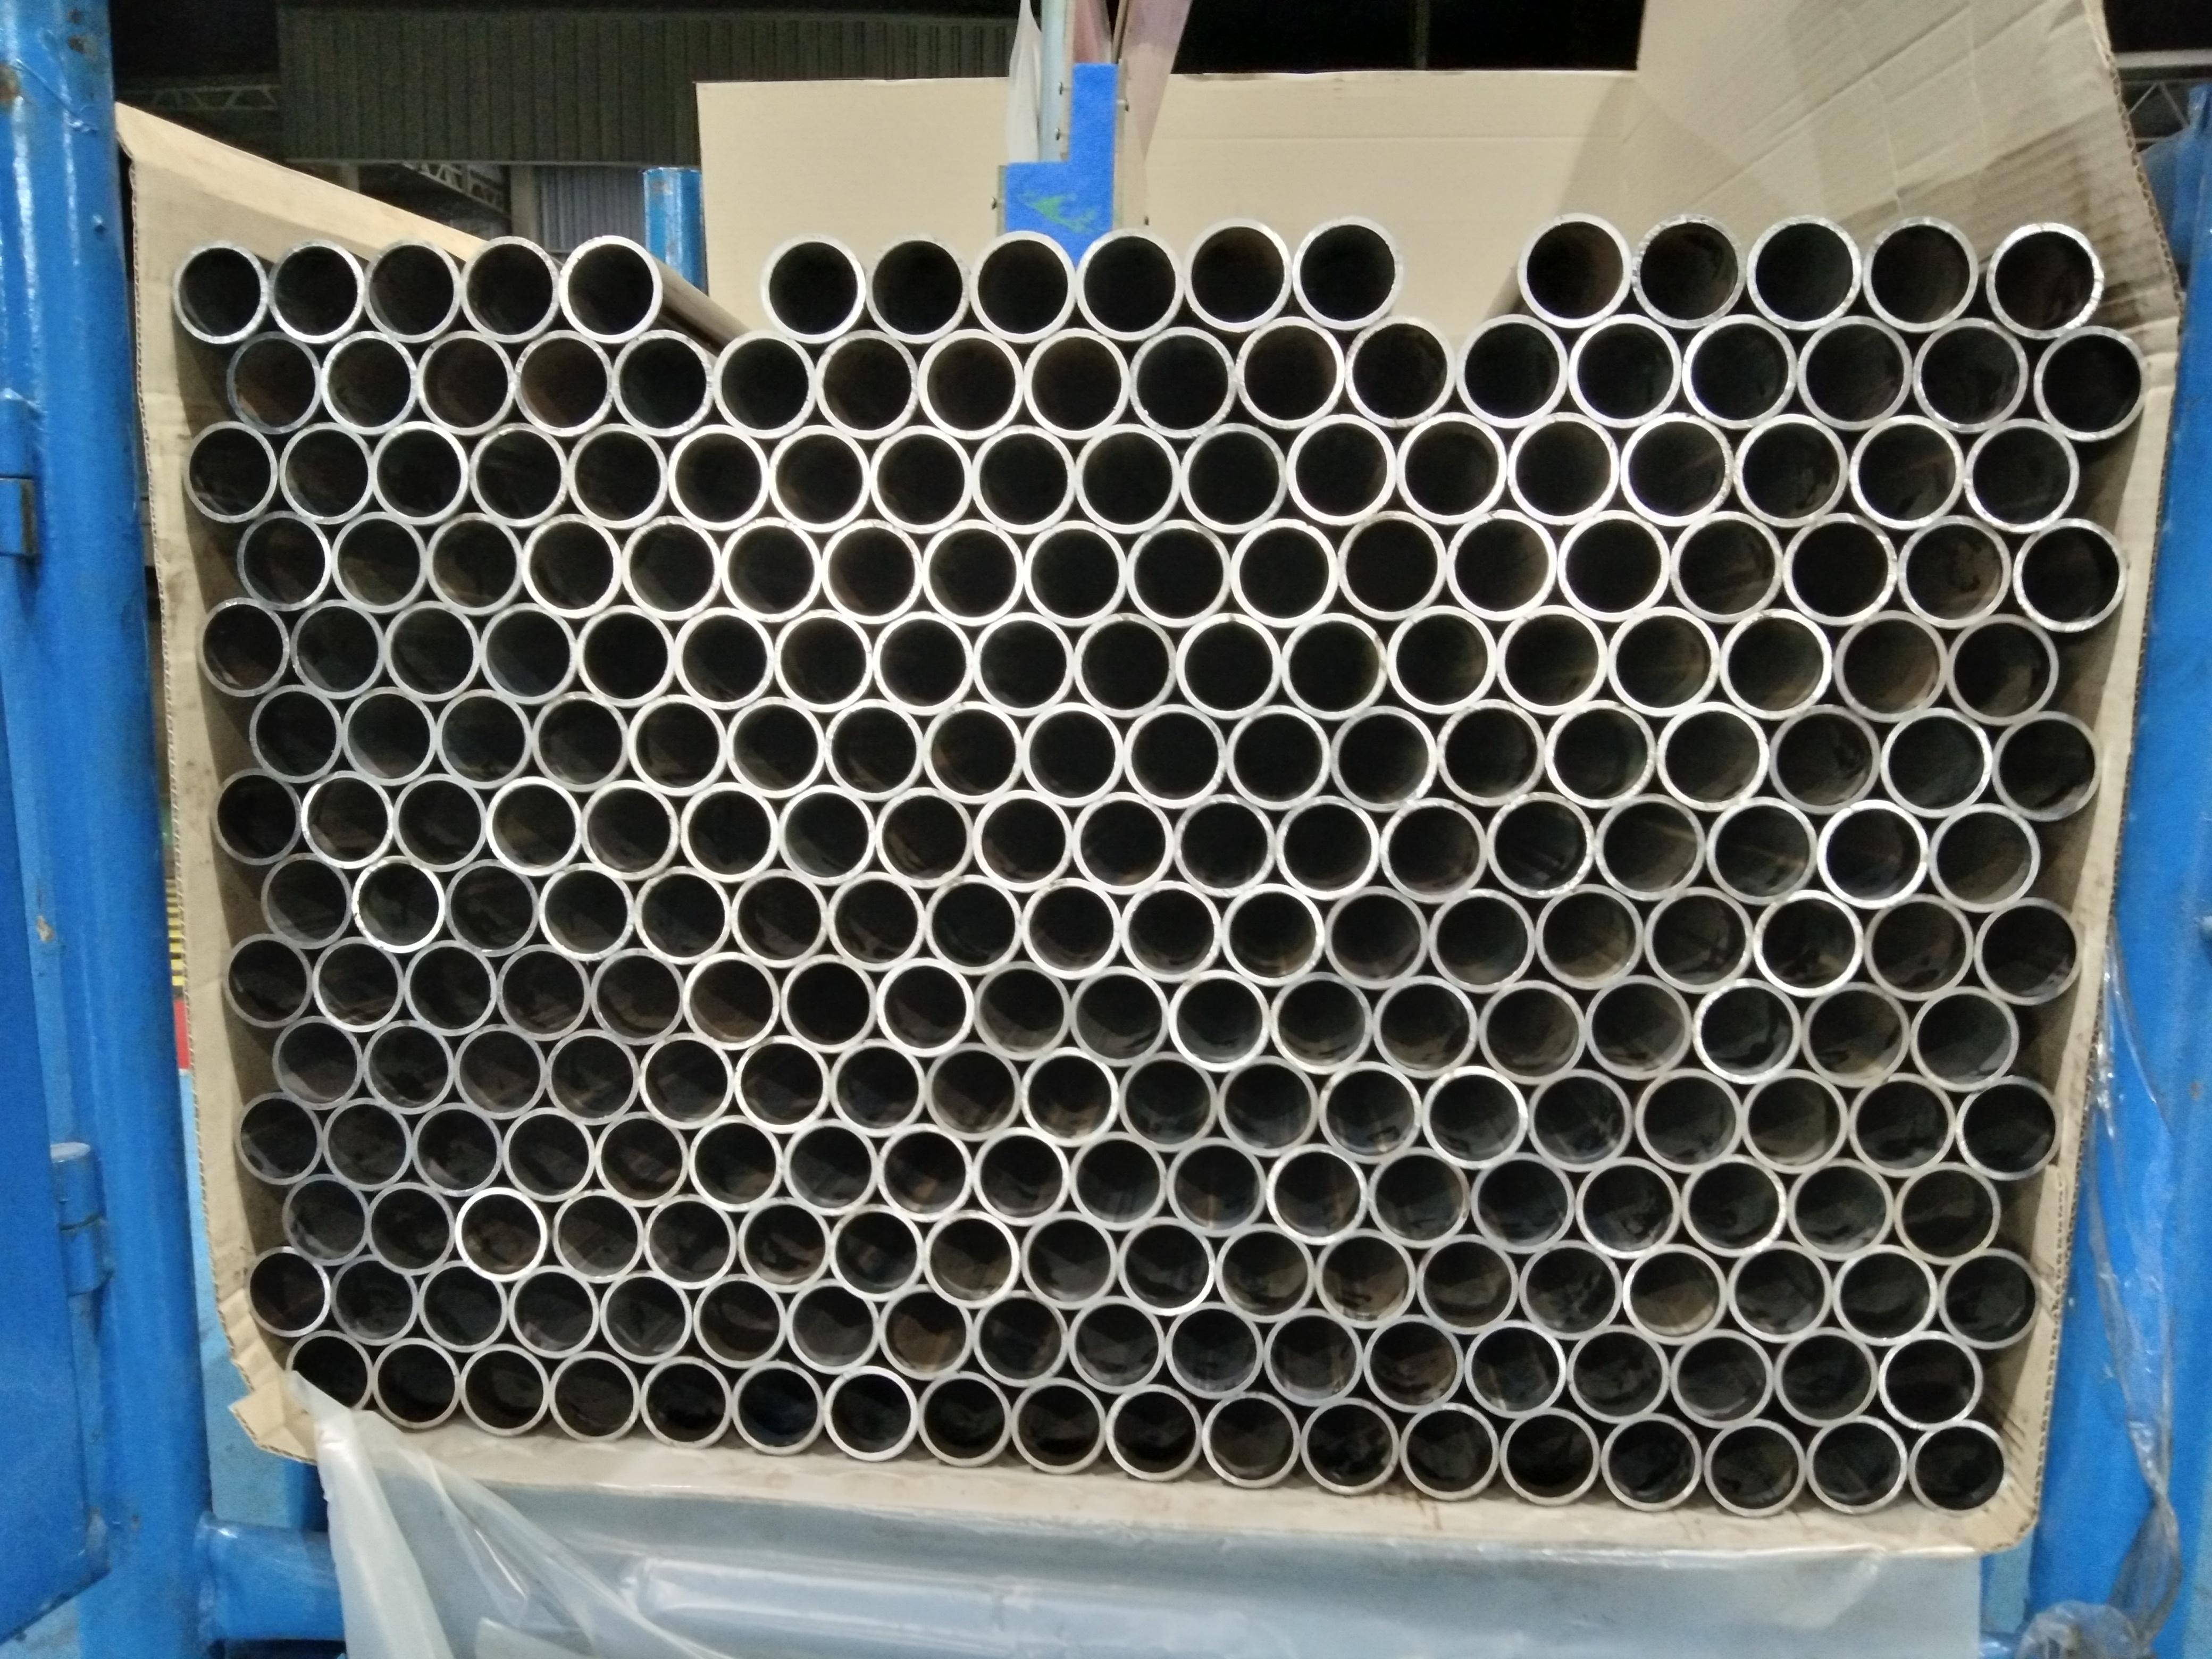pipe: (1911, 315, 2031, 432), (1716, 606, 1834, 721), (1517, 211, 1632, 329), (1984, 221, 2102, 336), (1897, 512, 2012, 629), (1630, 213, 1747, 328), (1796, 314, 1911, 430), (1733, 411, 1848, 528), (1848, 413, 1963, 530), (1862, 216, 1980, 329), (1669, 509, 1784, 624), (1832, 608, 1947, 723), (1568, 312, 1683, 427), (1683, 314, 1797, 429), (1618, 411, 1733, 526), (1963, 416, 2078, 532), (1944, 610, 2057, 727), (1745, 214, 1862, 328), (2031, 324, 2148, 437), (1557, 509, 1672, 622), (1784, 511, 1897, 626), (2012, 516, 2125, 631), (1766, 702, 1881, 816), (1507, 410, 1620, 525), (1235, 314, 1346, 430), (1395, 411, 1508, 525), (1336, 507, 1447, 622), (1456, 312, 1568, 427), (1287, 411, 1397, 528), (1446, 507, 1557, 620), (1386, 603, 1498, 716), (1606, 605, 1719, 716), (1879, 706, 1991, 819), (1703, 795, 1817, 906), (1292, 214, 1404, 328), (1345, 314, 1456, 427), (1987, 709, 2102, 819), (1496, 603, 1608, 714), (1656, 701, 1768, 812), (1926, 802, 2038, 913), (1533, 882, 1644, 993), (1583, 972, 1695, 1084), (1184, 218, 1294, 331), (1231, 514, 1339, 629), (1129, 322, 1237, 437), (1022, 324, 1130, 439), (1181, 418, 1287, 535), (1545, 699, 1656, 809), (1486, 789, 1595, 901), (1594, 791, 1705, 901), (1075, 420, 1183, 533), (1329, 702, 1439, 812), (1973, 896, 2083, 1006), (1909, 983, 2019, 1093), (1437, 697, 1545, 809), (1752, 889, 1864, 997), (1862, 892, 1973, 1000), (1076, 227, 1184, 338), (864, 230, 972, 342), (970, 228, 1076, 342), (918, 326, 1024, 439), (1125, 518, 1233, 627), (1280, 610, 1388, 720), (1817, 798, 1925, 908), (1642, 885, 1752, 993), (1426, 885, 1536, 993), (1799, 979, 1909, 1087), (1524, 1065, 1634, 1173), (1632, 1065, 1742, 1173), (970, 422, 1076, 533), (815, 326, 920, 439), (1273, 793, 1381, 901), (1379, 795, 1487, 903), (1475, 978, 1585, 1084), (1022, 518, 1127, 629), (1176, 612, 1282, 720), (1693, 976, 1799, 1084), (1738, 1066, 1846, 1173), (1846, 1072, 1956, 1176), (761, 232, 866, 342), (869, 423, 974, 533), (768, 422, 871, 533), (1322, 884, 1428, 990), (1726, 1239, 1832, 1345), (920, 518, 1024, 626), (1226, 702, 1331, 810), (1785, 1155, 1893, 1260), (611, 328, 716, 436), (820, 516, 923, 626), (667, 422, 770, 532), (514, 326, 615, 437), (716, 326, 817, 437), (1073, 612, 1177, 718), (1122, 702, 1226, 809), (1172, 791, 1277, 897), (1219, 882, 1325, 986), (1268, 969, 1372, 1075), (1371, 974, 1477, 1079), (1954, 1075, 2060, 1180), (1679, 1154, 1785, 1258), (1575, 1154, 1681, 1258), (1893, 1159, 2000, 1263), (1831, 1243, 1937, 1347), (559, 235, 664, 342), (719, 514, 822, 622), (460, 235, 563, 343), (568, 420, 669, 530), (1118, 878, 1223, 983), (772, 606, 874, 713), (972, 610, 1075, 716), (1021, 701, 1123, 807), (1071, 789, 1174, 896), (1317, 1060, 1423, 1162), (1366, 1145, 1472, 1248), (1470, 1150, 1576, 1253), (1515, 1237, 1622, 1340), (1622, 1241, 1728, 1344), (1667, 1326, 1773, 1429), (469, 420, 570, 528), (1167, 967, 1271, 1070), (1216, 1053, 1318, 1157), (1773, 1324, 1876, 1429), (622, 514, 723, 620), (674, 605, 775, 711), (873, 610, 974, 716), (1420, 1065, 1526, 1166), (1562, 1323, 1669, 1424), (362, 235, 462, 343), (1068, 964, 1170, 1066), (1165, 1134, 1268, 1237), (1259, 1305, 1362, 1408), (1601, 1410, 1703, 1513), (1806, 1413, 1909, 1516), (725, 694, 826, 798), (921, 699, 1022, 803), (874, 784, 975, 889), (972, 788, 1073, 892), (1937, 1248, 2041, 1349), (1703, 1413, 1804, 1518), (523, 512, 622, 619), (479, 599, 578, 706), (418, 328, 516, 436), (1021, 877, 1122, 979), (1116, 1049, 1217, 1152), (1264, 1141, 1367, 1243), (1313, 1227, 1416, 1328), (1414, 1232, 1517, 1333), (1360, 1312, 1463, 1413), (1463, 1317, 1564, 1420), (1878, 1328, 1979, 1431), (577, 603, 676, 708), (529, 690, 629, 795), (629, 692, 728, 796), (824, 697, 923, 802), (777, 782, 876, 887), (320, 329, 420, 434), (427, 509, 524, 615), (1907, 1419, 2013, 1516), (266, 237, 364, 343), (1299, 1394, 1400, 1495), (1399, 1399, 1500, 1500), (1500, 1405, 1601, 1506), (580, 777, 679, 880), (679, 781, 779, 884), (972, 958, 1071, 1061), (970, 1124, 1069, 1227), (1163, 1298, 1263, 1401), (371, 420, 469, 525), (228, 326, 320, 436), (536, 861, 636, 962), (730, 868, 829, 969), (826, 870, 925, 971), (923, 873, 1022, 974), (923, 1040, 1022, 1141), (1068, 1129, 1167, 1230), (1214, 1222, 1315, 1321), (1066, 1293, 1165, 1394), (383, 599, 481, 702), (331, 509, 427, 613), (279, 420, 374, 525), (732, 1033, 831, 1133), (827, 1037, 927, 1136), (1019, 1046, 1118, 1145), (1116, 1215, 1216, 1314), (634, 864, 732, 965), (683, 950, 780, 1051), (779, 951, 876, 1053), (876, 955, 974, 1056), (876, 1121, 974, 1222), (970, 1286, 1068, 1387), (289, 596, 385, 699), (435, 687, 531, 789), (486, 774, 582, 877), (1106, 1380, 1202, 1483), (239, 507, 333, 612), (543, 1026, 641, 1126), (921, 1208, 1021, 1305), (1021, 1209, 1118, 1309), (1010, 1375, 1108, 1474), (341, 685, 437, 786), (444, 857, 540, 958), (782, 1115, 878, 1216), (1204, 1387, 1299, 1488), (172, 240, 268, 342), (197, 596, 291, 699), (185, 418, 279, 521), (639, 1030, 735, 1129), (688, 1114, 784, 1213), (249, 681, 343, 782), (394, 770, 488, 871), (352, 852, 446, 953), (829, 1201, 925, 1298), (876, 1284, 972, 1382), (301, 769, 395, 868), (402, 938, 496, 1037), (496, 941, 590, 1040), (453, 1021, 547, 1121), (643, 1190, 737, 1290), (597, 1267, 691, 1366), (691, 1272, 786, 1371), (784, 1277, 878, 1377), (916, 1368, 1010, 1467), (594, 1110, 690, 1206), (590, 946, 685, 1044), (455, 1183, 549, 1281), (550, 1187, 644, 1284), (737, 1194, 831, 1291), (547, 1347, 641, 1445), (261, 850, 354, 950), (409, 1100, 503, 1195), (502, 1105, 596, 1201), (733, 1358, 826, 1455), (824, 1363, 916, 1460), (362, 1016, 453, 1115), (212, 769, 303, 866), (314, 934, 404, 1032), (273, 1012, 364, 1110), (641, 1352, 732, 1450), (223, 932, 314, 1028), (366, 1178, 456, 1274), (507, 1263, 597, 1359), (327, 1253, 418, 1347), (416, 1260, 507, 1354), (235, 1091, 324, 1187), (322, 1094, 411, 1190), (371, 1335, 460, 1431), (460, 1342, 549, 1436), (244, 1246, 331, 1340), (284, 1171, 369, 1267), (286, 1328, 376, 1412)
